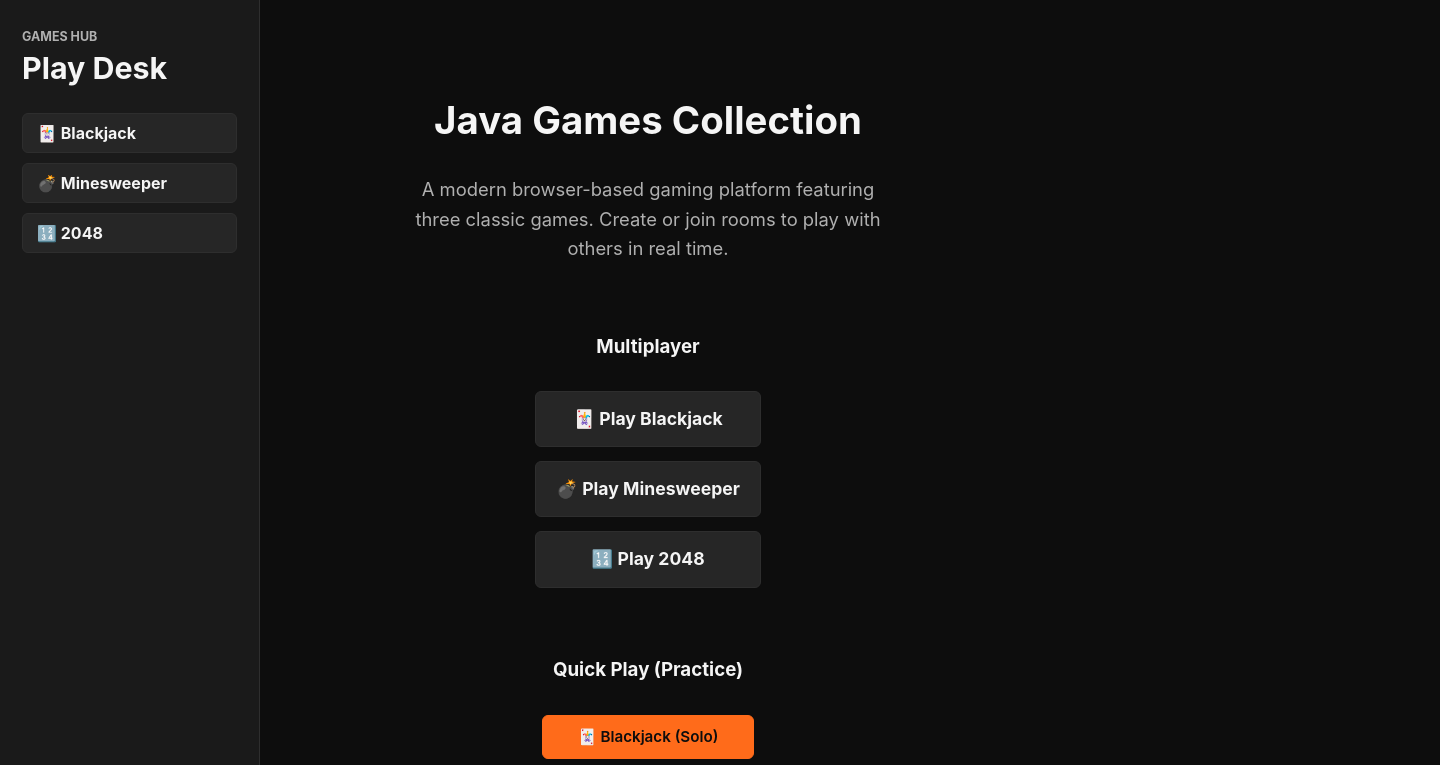
Test: 6g E2 - a 500 from quick play is surfaced, not swallowed › retries once, then shows the server error and refetches the room list
Click the button "🃏 Blackjack (Solo)": coordinates (648, 737) [542, 714, 754, 759]
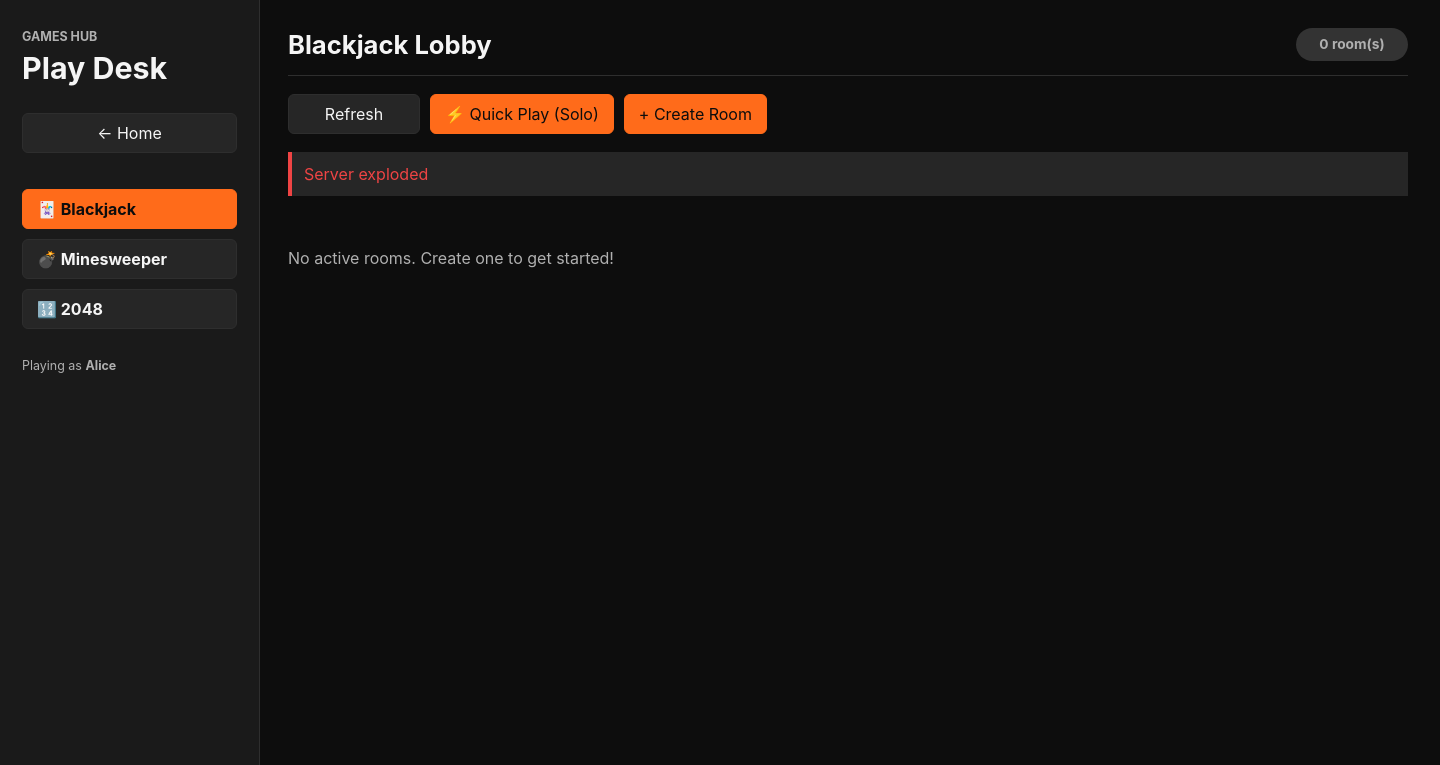
Now the message reads "Server exploded", box [304, 164, 428, 184]
